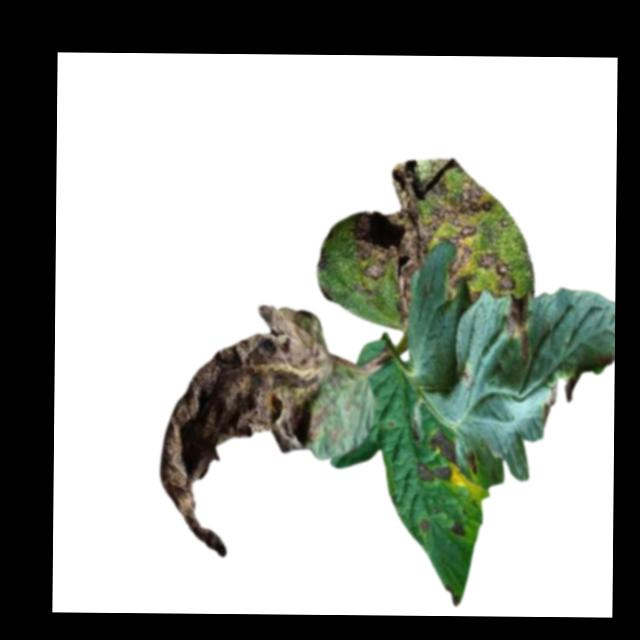Early_blight: (154, 305, 335, 562), (350, 156, 530, 329), (502, 296, 532, 368), (427, 429, 460, 463), (541, 378, 561, 428), (414, 462, 454, 485), (447, 522, 467, 537), (416, 518, 430, 538)
